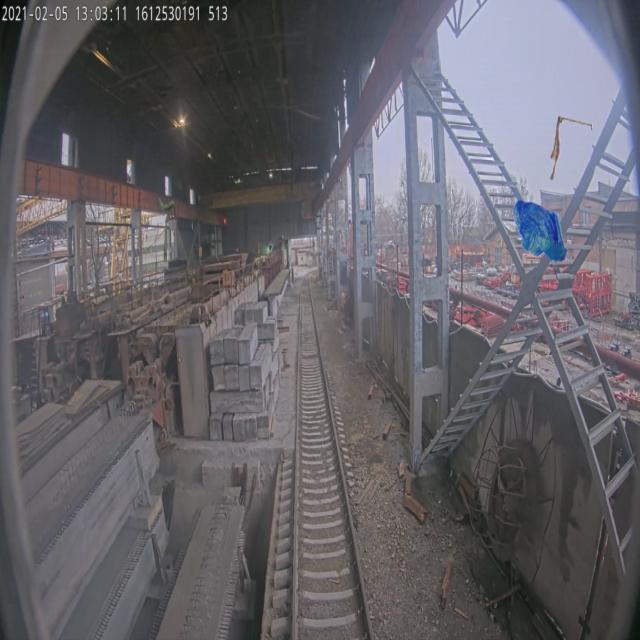floating object: (549, 116, 593, 180), (158, 197, 175, 260)
plastic bag: (512, 198, 568, 262)
